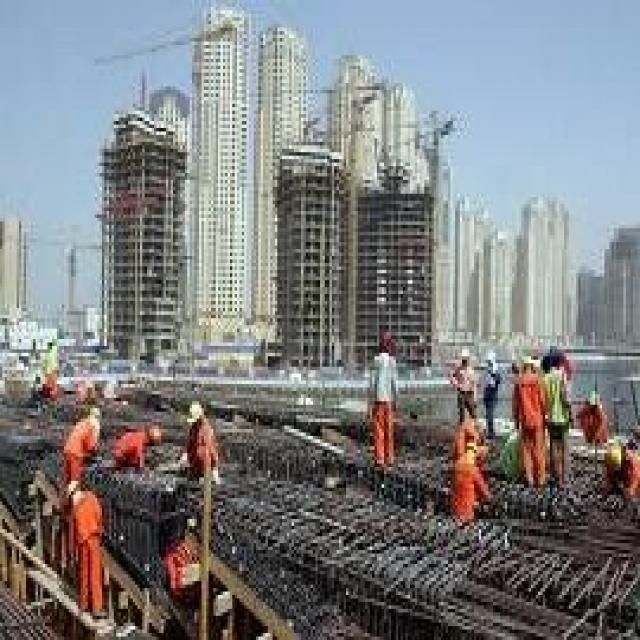Reflective-Jacket: (57, 415, 102, 488), (514, 370, 546, 433), (112, 426, 150, 470)
Safety-Helmet: (602, 439, 628, 474), (374, 326, 403, 356), (185, 394, 208, 429), (586, 384, 602, 412), (460, 342, 474, 363)
